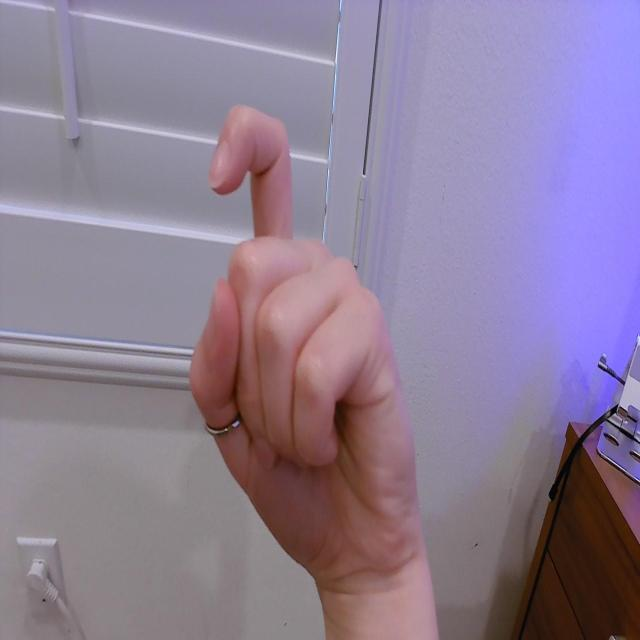X: (184, 102, 418, 572)
